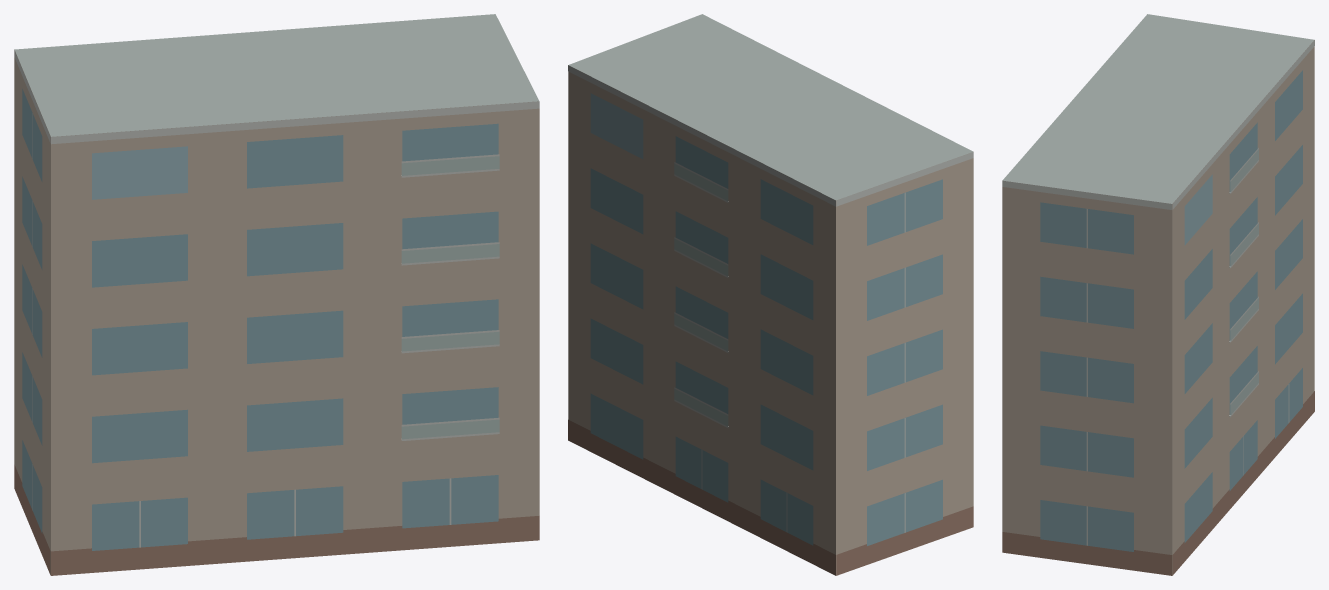
Rendered from survey-upis-32698400.glb.
The picture shows the model from 3 angles, left to right: view 1: azimuth 30°, elevation 25°; view 2: azimuth 150°, elevation 25°; view 3: azimuth 270°, elevation 25°; orthographic projection. The views are drawn at different scales.
Visible parts, largest first — view 1: survey-upis-32698400.tmp; view 2: survey-upis-32698400.tmp; view 3: survey-upis-32698400.tmp.
Part boxes in pixels (box(x1,y1,x2,y2)): survey-upis-32698400.tmp: box(14, 14, 539, 575); survey-upis-32698400.tmp: box(568, 14, 973, 575); survey-upis-32698400.tmp: box(1002, 14, 1314, 575).
Bounding box in the file's own units: 15.95 × 14.55 × 11.09.
